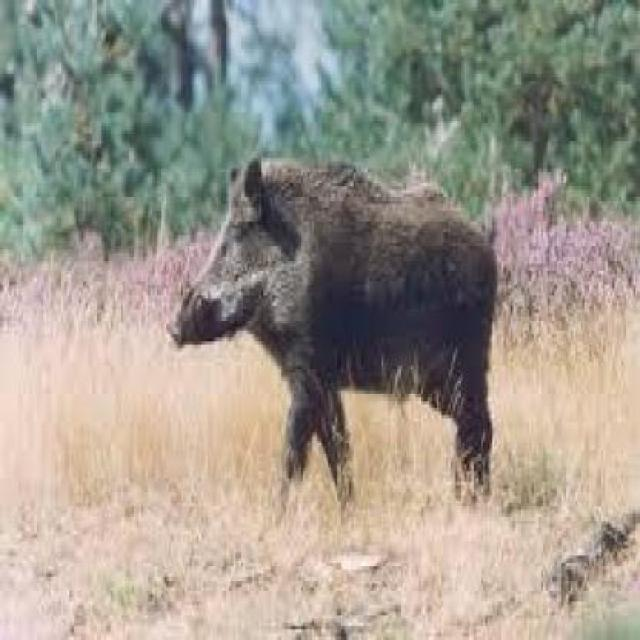wildboar: (166, 150, 500, 518)
